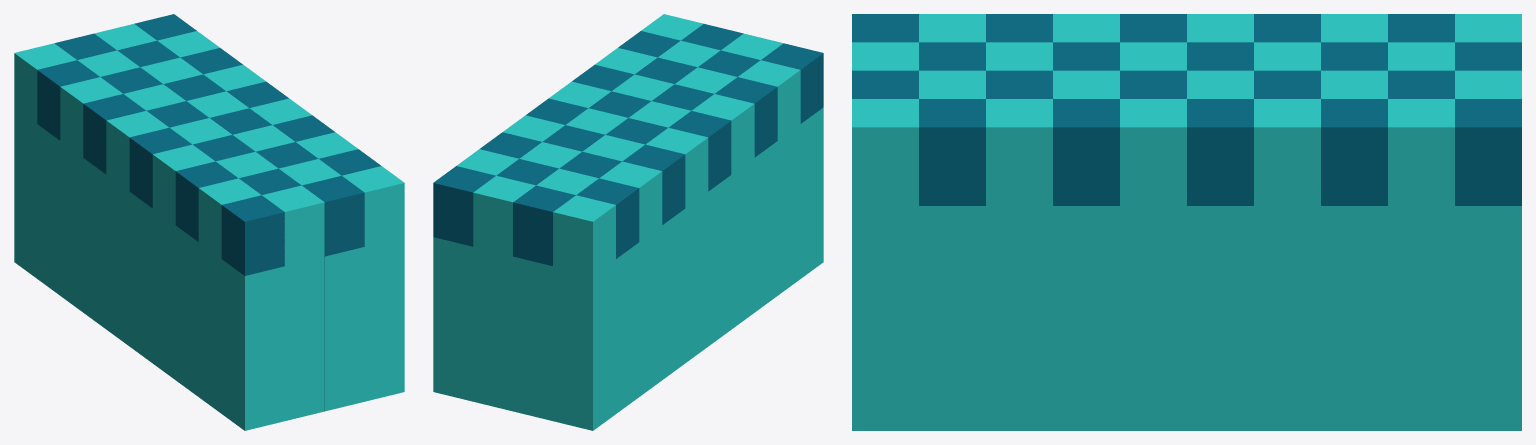
The model's file is Hielo.fbx.
3 renders of one model, left to right at view 1: azimuth 30°, elevation 25°; view 2: azimuth 150°, elevation 25°; view 3: azimuth 270°, elevation 25°, orthographic. The views are drawn at different scales.
Visible parts, largest first — view 1: Hielo; view 2: Hielo; view 3: Hielo.
Boxes of the visible parts, <box> form: Hielo: <box>14,14,404,430</box>; Hielo: <box>433,14,823,430</box>; Hielo: <box>852,14,1521,430</box>.
Size of the model in its own units: 40 by 50 by 99.97.
